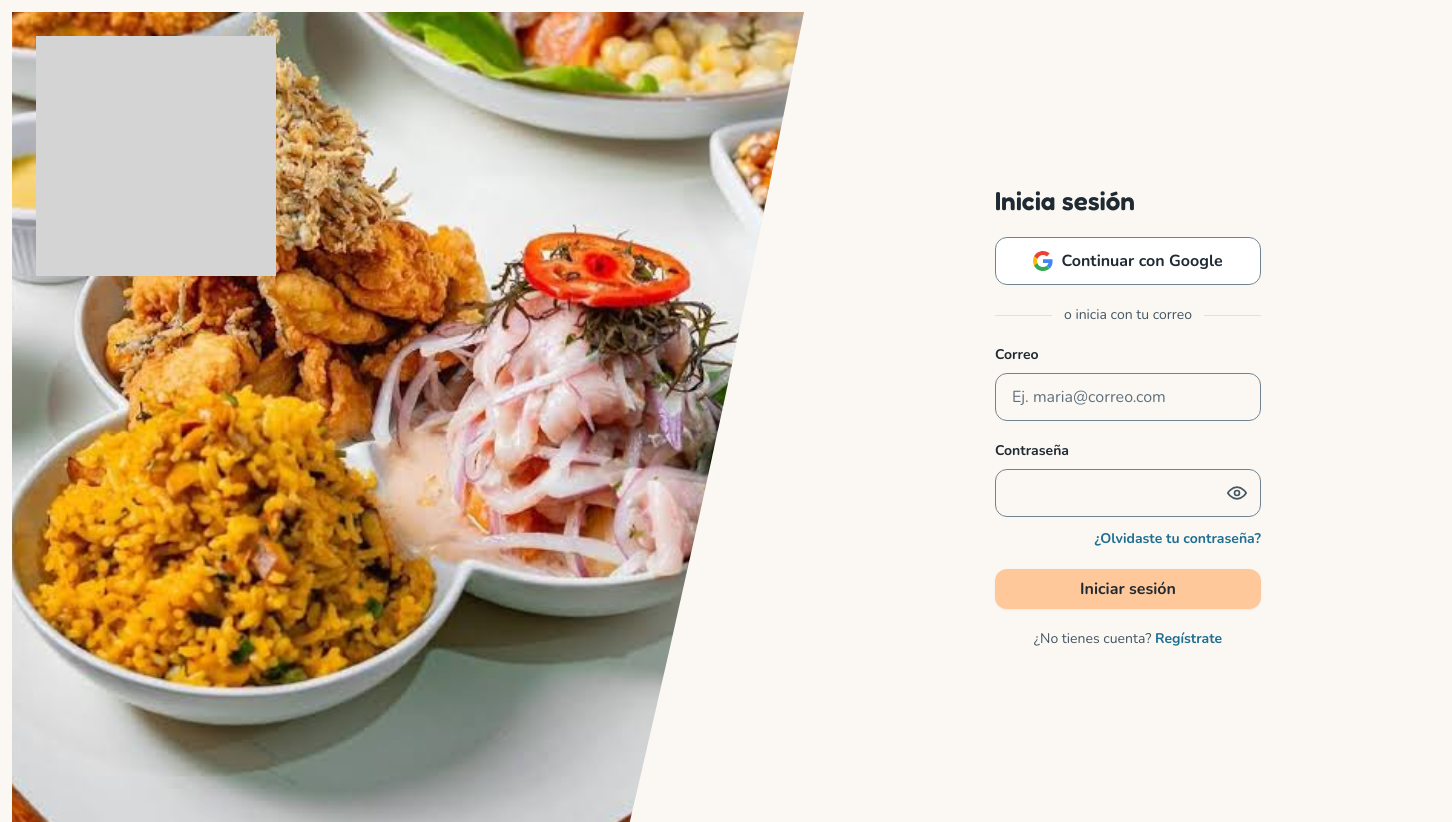
Test case: LoginPage › tras bloquearse por intentos fallidos muestra el mensaje distinto que devuelve la API
In the field labelled "Correo": (1128, 397) [995,373,1261,421], type "maria@correo.com"
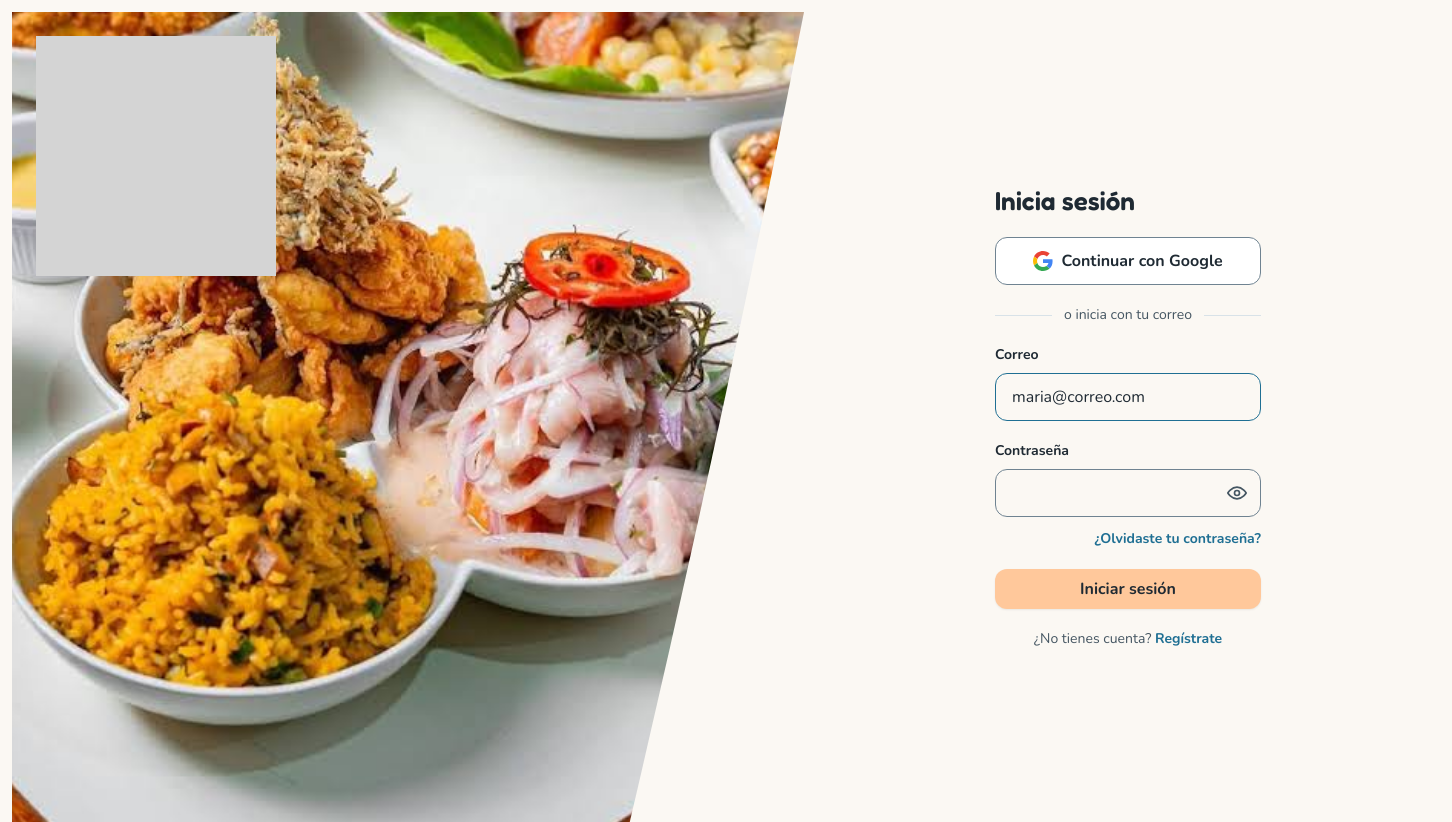
In the password field labelled "Contraseña": (1128, 493) [995,469,1261,517], type "clave1234"
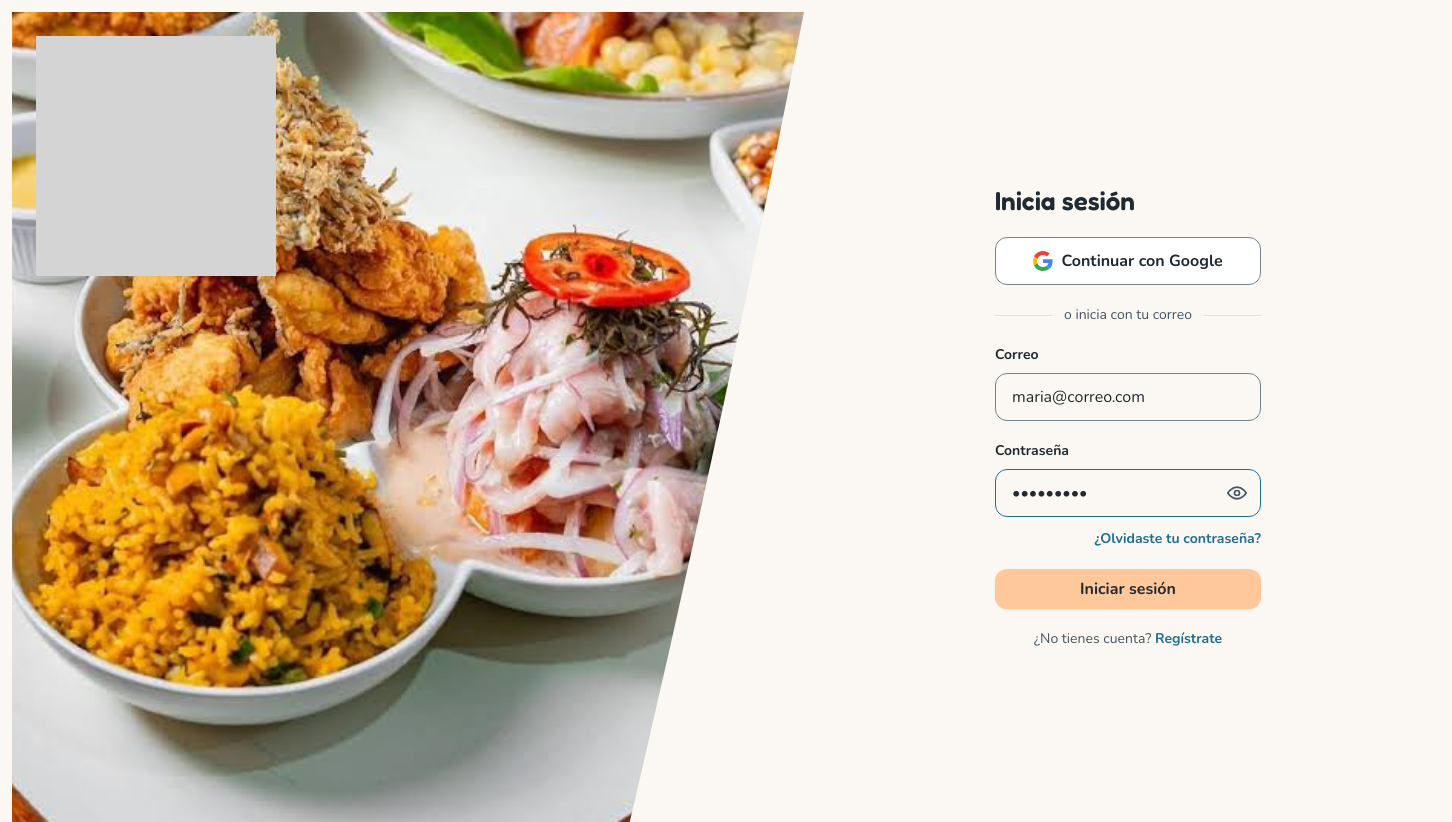
Click the button "Iniciar sesión": (1128, 589) [995,569,1261,609]
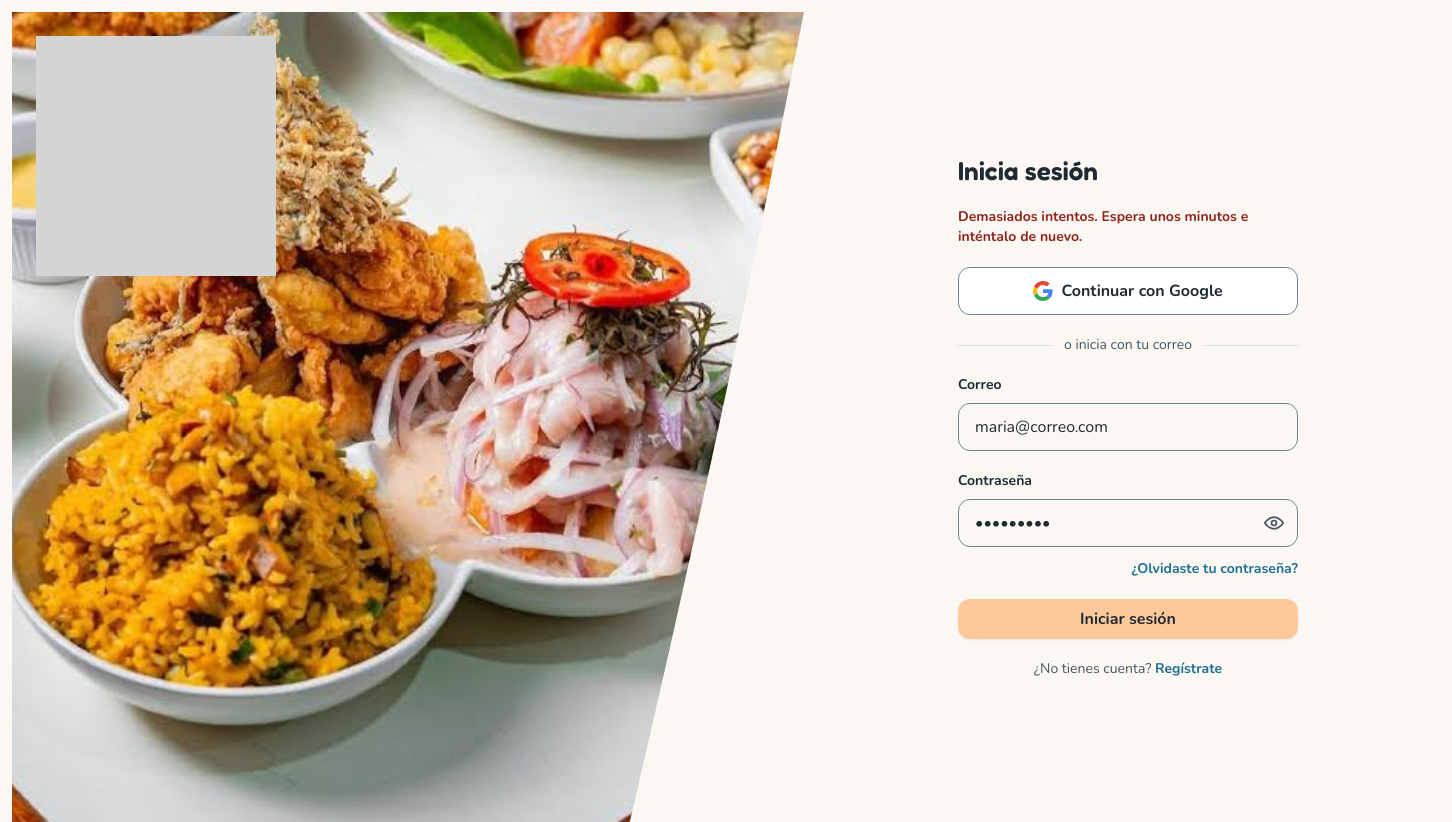
Expected: the text "Demasiados intentos. Espera unos minutos e inténtalo de nuevo." is shown, [958,207,1298,247]
